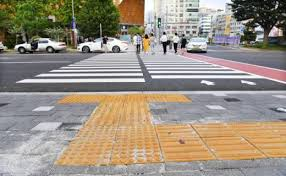guide_blocks: (59, 122, 286, 162), (85, 104, 152, 126), (59, 93, 190, 104)
